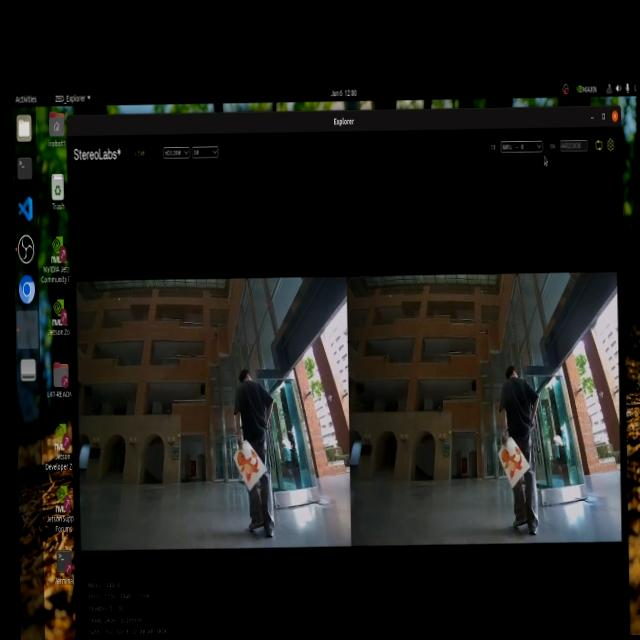red: (232, 441, 264, 490), (504, 450, 520, 483)
